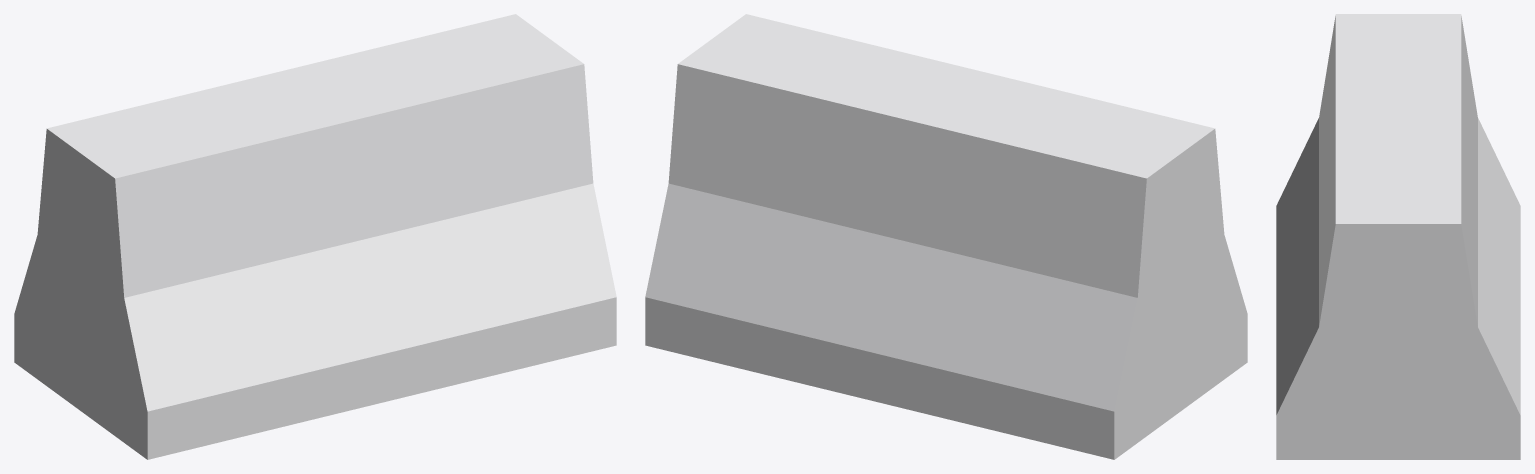
The model's file is barrierWhite.glb.
3 views of the same model, side by side, from view 1: azimuth 30°, elevation 25°; view 2: azimuth 150°, elevation 25°; view 3: azimuth 270°, elevation 25° (orthographic). The views are drawn at different scales.
Visible parts, largest first — view 1: barrierWhite(Clone); view 2: barrierWhite(Clone); view 3: barrierWhite(Clone).
Boxes of the visible parts, bbox=[...] form: barrierWhite(Clone): bbox=[14, 14, 616, 459]; barrierWhite(Clone): bbox=[645, 14, 1247, 459]; barrierWhite(Clone): bbox=[1276, 14, 1520, 459].
Bounding box in the file's own units: 0.25 × 0.1312 × 0.123.
Materials: 1 (1 with a texture image).
